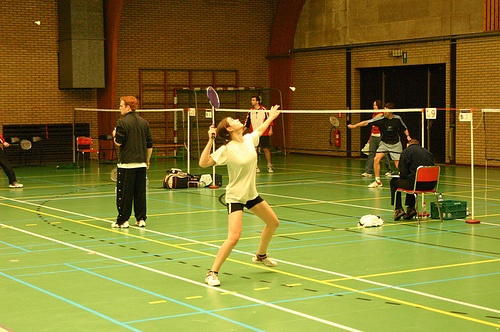head: (217, 116, 245, 139), (117, 95, 140, 118), (249, 96, 262, 111), (370, 100, 383, 110)
person: (198, 101, 281, 287), (328, 103, 414, 189), (111, 94, 152, 231), (388, 138, 440, 228), (242, 95, 277, 171), (360, 100, 381, 181), (1, 119, 23, 187)
